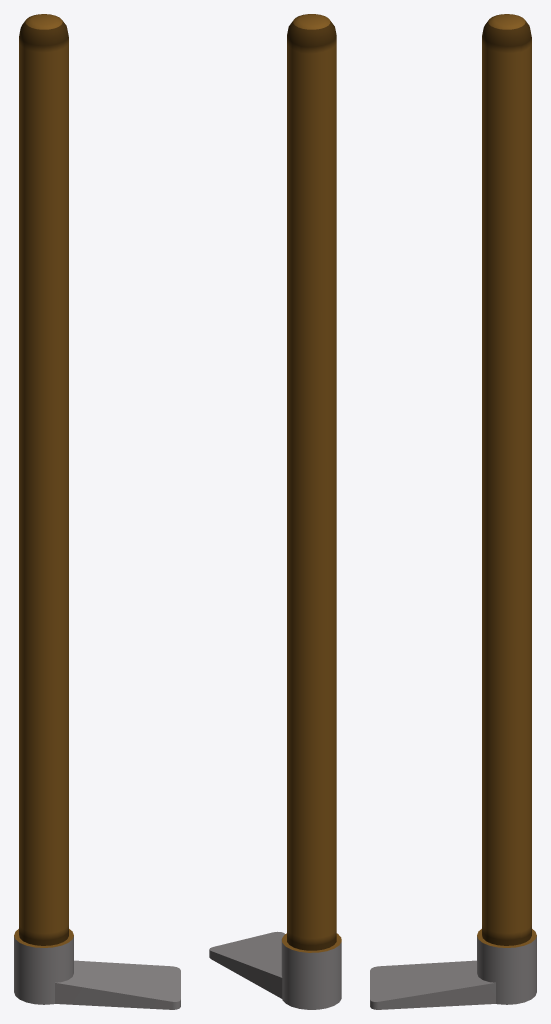
Rendered from Hoe.fbx.
3 views of the same model, side by side, from view 1: azimuth 90°, elevation 25°; view 2: azimuth 210°, elevation 25°; view 3: azimuth 270°, elevation 25° (orthographic).
Visible parts, largest first — view 1: pCube98; view 2: pCube98; view 3: pCube98.
Boxes of the visible parts, box(x1,y1,x2,y2) form: pCube98: box(14, 14, 180, 1009); pCube98: box(209, 14, 341, 1009); pCube98: box(370, 14, 536, 1009).
Bounding box in the file's own units: 3.24 × 41.34 × 6.43.
1 material, 1 textured.
